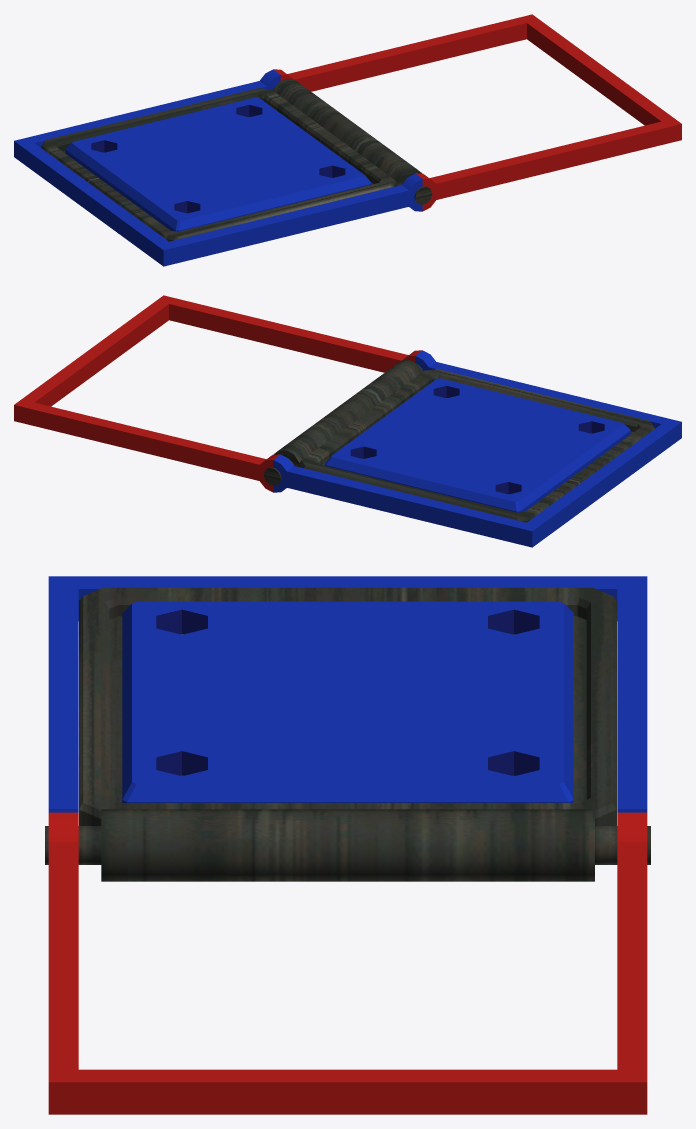
The model's file is Flip Swap Platform.dae.
3 renders of one model, top to bottom at view 1: azimuth 30°, elevation 25°; view 2: azimuth 150°, elevation 25°; view 3: azimuth 270°, elevation 25°, orthographic. The views are drawn at different scales.
Parts seen in each view (by area): view 1: RedBlueTurnBlockBase_001, RedBlueTurnBlock_002, RedBlueTurnBlock_001; view 2: RedBlueTurnBlockBase_001, RedBlueTurnBlock_002, RedBlueTurnBlock_001; view 3: RedBlueTurnBlock_002, RedBlueTurnBlock_001, RedBlueTurnBlockBase_001.
Boxes of the visible parts, x1,y1,x2,y2 form: RedBlueTurnBlockBase_001: (14,14,681,266); RedBlueTurnBlock_002: (65,97,371,231); RedBlueTurnBlock_001: (41,79,432,241); RedBlueTurnBlockBase_001: (14,295,681,547); RedBlueTurnBlock_002: (324,378,630,512); RedBlueTurnBlock_001: (263,360,654,522); RedBlueTurnBlock_002: (122,601,573,802); RedBlueTurnBlock_001: (45,587,650,881); RedBlueTurnBlockBase_001: (48,576,647,1114).
Size of the model in its own units: 10 by 5.06 by 0.6041.
Materials: 2 (2 with a texture image).
